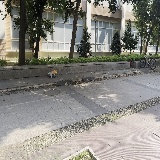fire: (52, 68, 58, 73)
